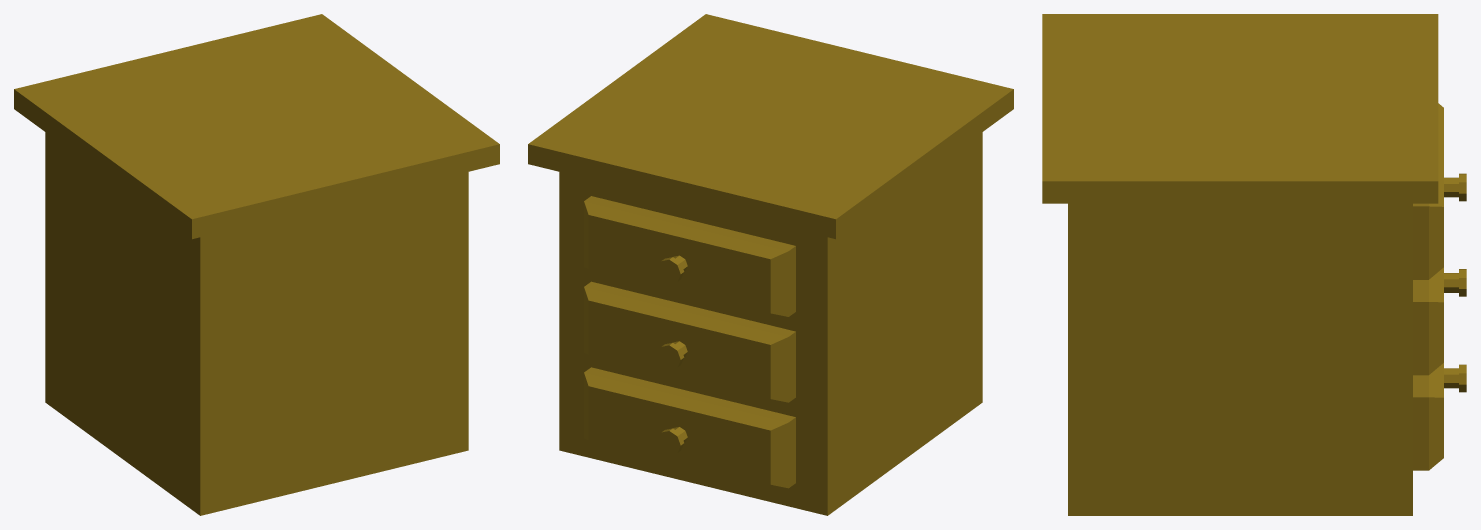
File: Dresser_01.glb
3 views of the same model, side by side, from view 1: azimuth 30°, elevation 25°; view 2: azimuth 150°, elevation 25°; view 3: azimuth 270°, elevation 25° (orthographic). The views are drawn at different scales.
Visible parts, largest first — view 1: Dresser_01; view 2: Dresser_01; view 3: Dresser_01.
Boxes of the visible parts, left/top/right/bottom form: Dresser_01: left=14, top=14, right=499, bottom=515; Dresser_01: left=528, top=14, right=1013, bottom=515; Dresser_01: left=1042, top=14, right=1466, bottom=515.
Bounding box in the file's own units: 1.19 × 1.15 × 1.28.
